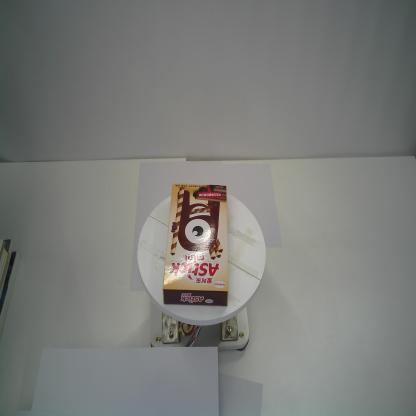Dessert: (162, 183, 228, 308)
